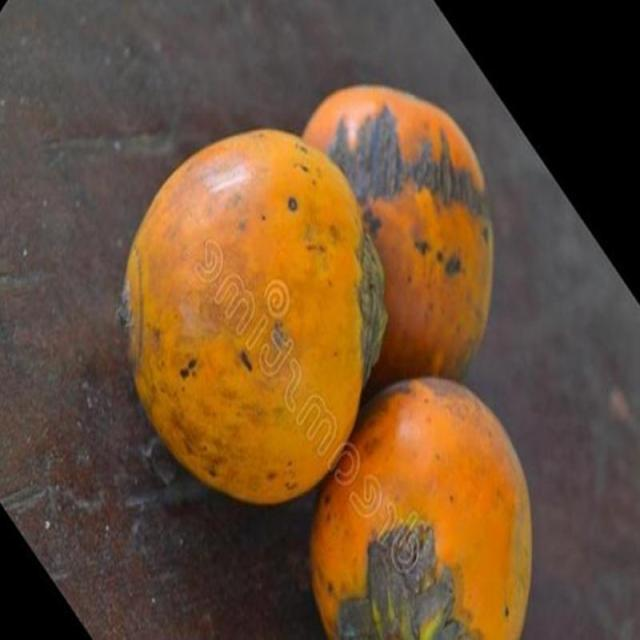good: (122, 129, 387, 506), (309, 378, 533, 639)
